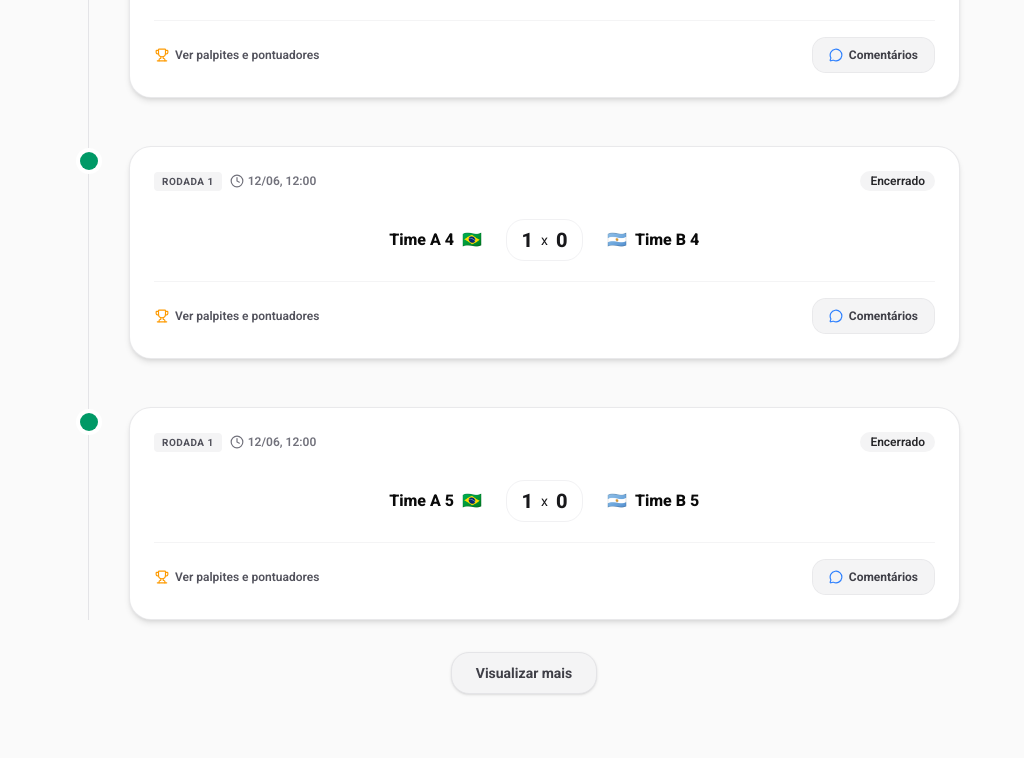
Test: EventosClient › deve renderizar a timeline e limitar a exibição a 5 eventos inicialmente
(page scrolled)
Expected: the text "Time A 6" is not shown
Expected: the text "Time A 7" is not shown
Note: Clicar em "Visualizar mais"
Click the button "Visualizar mais": x=524, y=673 top-left (451, 652), bottom-right (597, 694)
(page scrolled)
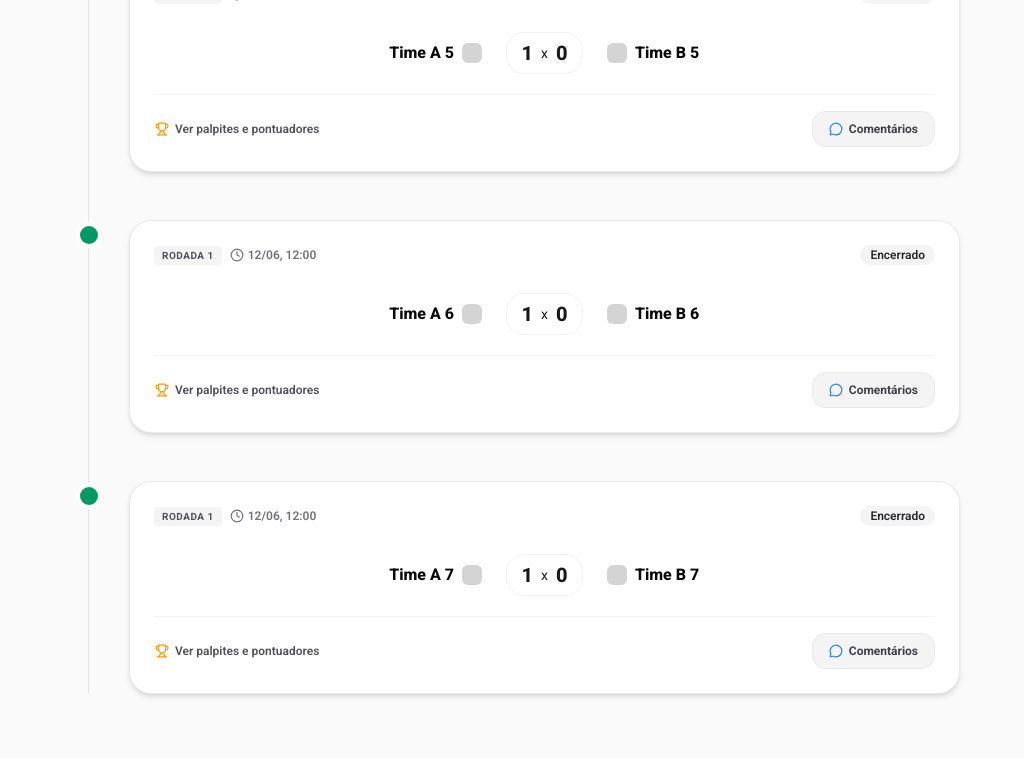
Now the text "Time A 6" is shown, box top-left (389, 302), bottom-right (454, 326)
Now the text "Time A 7" is shown, box top-left (389, 563), bottom-right (454, 587)
Now the button "Visualizar mais" is gone
